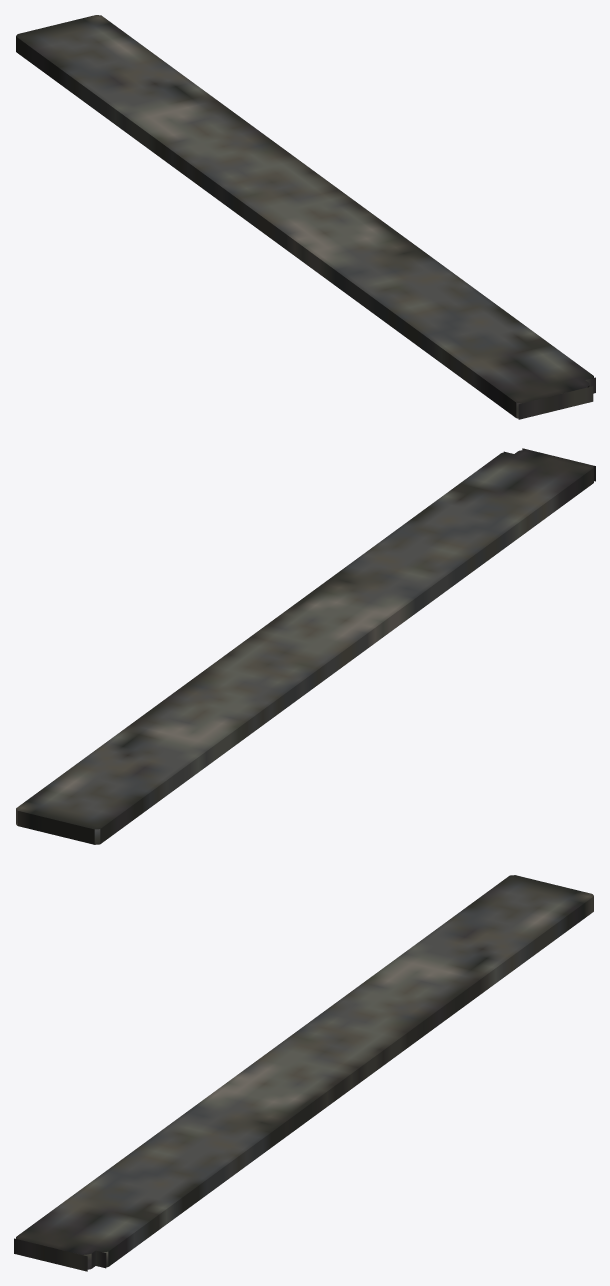
File: SM_EC_Fence_Part_20.fbx
The picture shows the model from 3 angles, top to bottom: view 1: azimuth 30°, elevation 25°; view 2: azimuth 150°, elevation 25°; view 3: azimuth 330°, elevation 25°; orthographic projection.
Visible parts, largest first — view 1: SM_EC_Fence_Part_20; view 2: SM_EC_Fence_Part_20; view 3: SM_EC_Fence_Part_20.
Part boxes in pixels (box(x1,y1,x2,y2)): SM_EC_Fence_Part_20: box(16, 15, 595, 419); SM_EC_Fence_Part_20: box(16, 448, 595, 844); SM_EC_Fence_Part_20: box(14, 875, 593, 1271).
Size of the model in its own units: 0.1042 by 1.06 by 0.0181.
